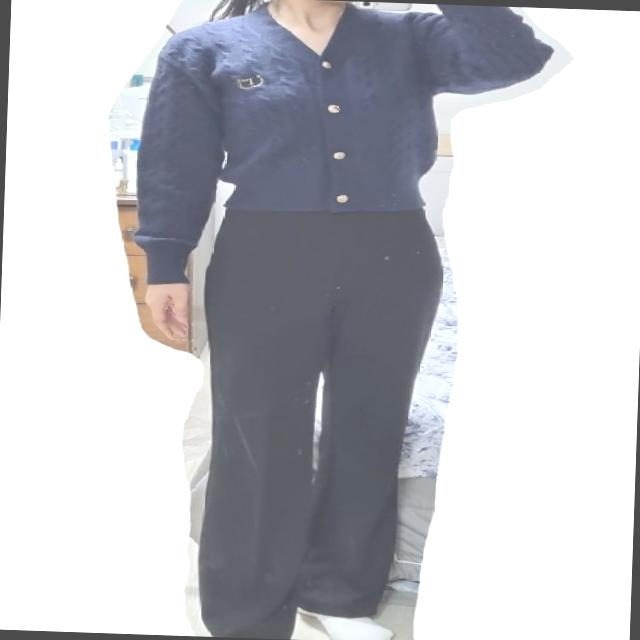cardigan: (134, 0, 549, 297)
slacks: (194, 206, 448, 640)
